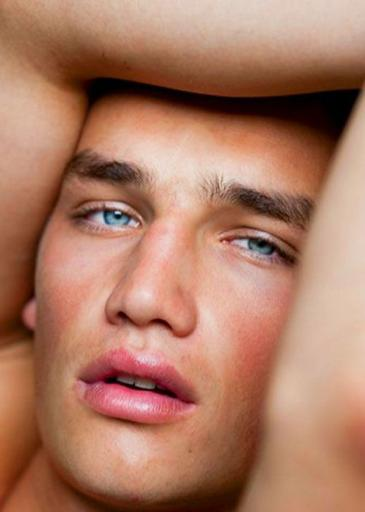left_eye: (217, 234, 297, 267)
left_lip_corner: (188, 390, 209, 415)
right_eye: (68, 205, 144, 238)
right_lip_corner: (70, 366, 92, 395)
